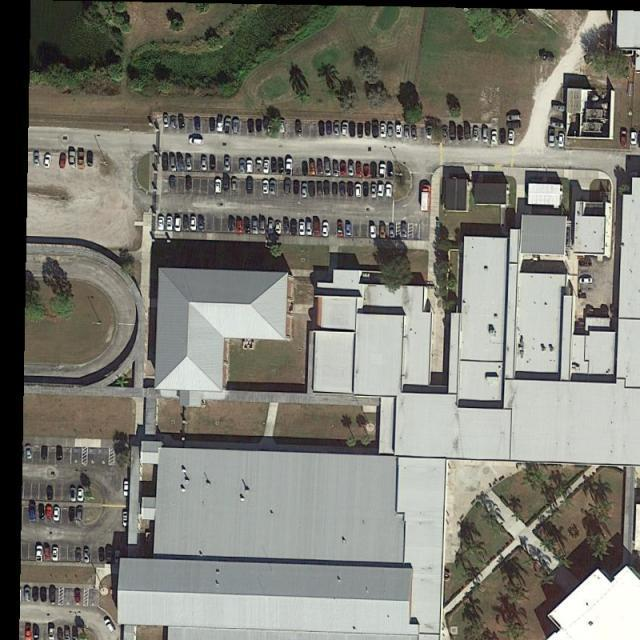vehicle: (421, 184, 431, 213), (104, 618, 118, 634), (176, 152, 186, 171), (42, 153, 53, 170), (75, 505, 85, 522), (58, 153, 68, 170), (29, 502, 37, 522), (231, 118, 241, 134), (78, 150, 86, 170), (170, 152, 178, 172), (385, 183, 394, 200), (284, 178, 293, 195), (53, 506, 62, 523), (69, 151, 78, 168), (316, 160, 325, 177), (403, 124, 412, 141), (372, 121, 381, 138), (24, 586, 33, 603), (246, 176, 254, 195), (38, 503, 46, 522), (400, 222, 408, 241), (294, 119, 302, 138), (338, 182, 347, 198), (346, 182, 355, 198), (354, 182, 363, 198), (301, 182, 309, 200), (378, 162, 386, 180), (314, 220, 322, 238), (216, 115, 224, 133), (86, 150, 94, 168), (277, 158, 286, 174), (223, 156, 232, 172), (209, 154, 217, 172), (185, 154, 193, 172), (394, 123, 403, 139), (464, 124, 472, 142), (620, 130, 629, 146), (105, 546, 114, 562), (553, 103, 567, 113), (223, 173, 230, 193), (317, 181, 325, 198), (270, 179, 278, 196), (230, 177, 238, 194), (185, 175, 193, 192), (386, 162, 394, 179), (370, 162, 378, 179), (362, 162, 370, 179), (77, 487, 85, 504), (46, 505, 54, 522), (122, 510, 130, 527), (290, 218, 298, 235), (348, 161, 356, 178), (225, 117, 233, 134), (189, 138, 206, 146), (278, 118, 286, 135), (286, 158, 294, 175), (162, 153, 170, 170), (318, 120, 326, 137), (46, 485, 54, 502), (558, 132, 566, 149), (49, 586, 57, 603), (32, 586, 40, 603), (378, 224, 387, 239), (507, 130, 516, 145), (24, 625, 33, 640), (82, 548, 91, 563), (201, 154, 208, 173), (549, 128, 556, 147), (370, 183, 378, 199), (378, 182, 386, 198), (158, 216, 166, 232), (182, 216, 190, 232), (309, 182, 317, 198), (293, 180, 301, 196), (214, 178, 222, 194), (169, 174, 177, 190), (190, 216, 198, 232), (229, 218, 237, 234), (41, 446, 49, 462), (322, 222, 330, 238), (247, 118, 255, 134), (178, 114, 186, 130), (302, 161, 310, 177), (270, 158, 278, 174), (246, 158, 254, 174), (364, 121, 372, 137), (341, 122, 349, 138), (333, 121, 341, 137), (69, 506, 77, 522), (36, 546, 44, 562), (506, 121, 522, 129), (40, 586, 48, 602), (52, 546, 60, 562), (411, 123, 418, 141), (457, 124, 464, 142), (166, 216, 174, 231), (174, 217, 182, 232), (262, 180, 270, 195), (123, 481, 131, 496), (26, 445, 34, 460), (298, 221, 306, 236), (251, 219, 259, 234), (324, 162, 332, 177), (309, 161, 317, 176), (262, 159, 270, 174), (630, 131, 638, 146), (579, 260, 594, 268), (74, 588, 82, 603), (198, 214, 205, 231), (259, 218, 266, 235), (341, 161, 348, 178), (381, 121, 388, 138), (350, 121, 357, 138), (482, 126, 489, 143), (363, 182, 370, 198), (56, 446, 63, 462), (338, 222, 345, 238), (306, 221, 313, 237), (283, 218, 290, 234), (209, 116, 216, 132), (387, 123, 394, 139), (326, 120, 333, 136), (450, 124, 457, 140), (426, 126, 434, 140), (473, 126, 480, 142), (491, 130, 498, 146), (580, 277, 594, 285), (506, 114, 522, 121), (499, 128, 506, 144), (114, 550, 122, 564), (74, 548, 82, 562), (324, 181, 331, 196), (390, 224, 397, 239), (70, 487, 77, 502), (244, 219, 251, 234), (333, 162, 340, 177), (34, 151, 41, 166), (263, 115, 270, 130), (256, 118, 263, 133), (357, 123, 364, 138), (550, 122, 565, 129), (33, 625, 40, 640), (98, 547, 105, 562), (356, 162, 362, 179), (268, 218, 274, 235), (331, 182, 338, 196), (275, 221, 282, 235), (194, 116, 201, 130), (163, 114, 170, 128), (442, 126, 449, 140), (48, 626, 55, 640), (72, 626, 79, 640), (370, 226, 378, 238), (256, 158, 262, 174), (45, 546, 51, 562), (345, 224, 352, 237), (170, 116, 177, 129), (237, 219, 243, 234), (240, 158, 246, 173), (56, 630, 65, 640), (64, 629, 71, 640), (638, 130, 640, 146)
